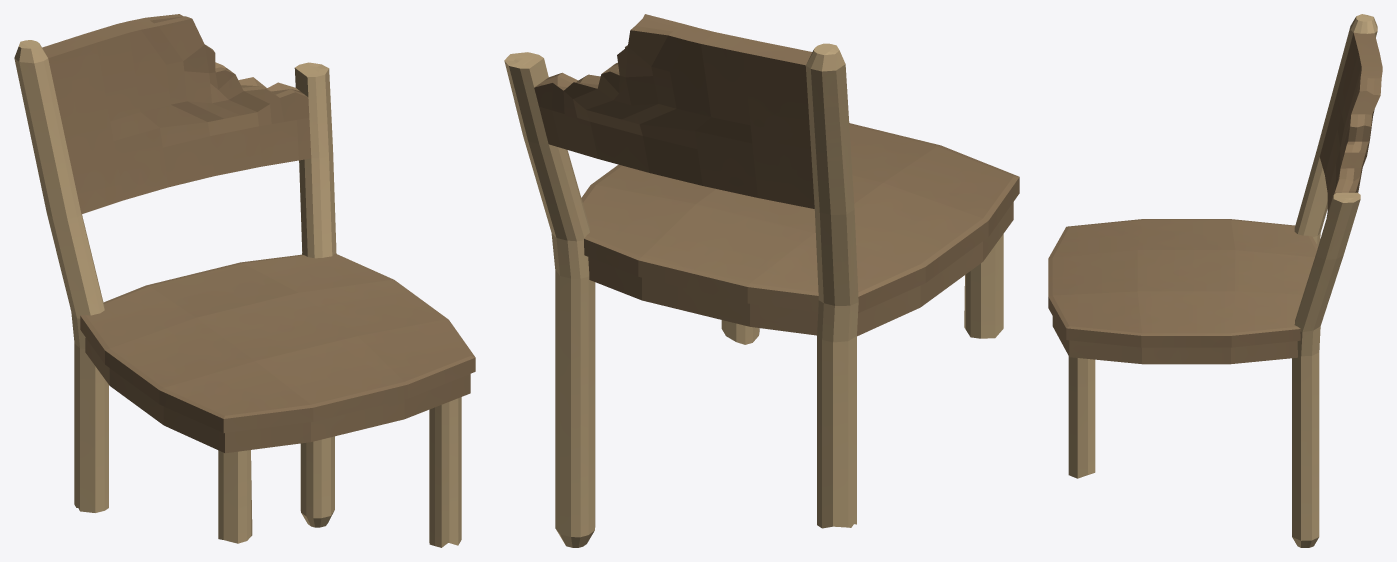
Rendered from chair_1_destroyed_2.glb.
3 views of the same model, side by side, from view 1: azimuth 30°, elevation 25°; view 2: azimuth 150°, elevation 25°; view 3: azimuth 270°, elevation 25° (orthographic). The views are drawn at different scales.
Parts seen in each view (by area): view 1: chair_1_destroyed_2; view 2: chair_1_destroyed_2; view 3: chair_1_destroyed_2.
Boxes of the visible parts, box(x1,y1,x2,y2) form: chair_1_destroyed_2: box(14, 14, 475, 547); chair_1_destroyed_2: box(504, 14, 1019, 547); chair_1_destroyed_2: box(1048, 14, 1382, 547).
Size of the model in its own units: 0.4601 by 0.7549 by 0.5374.
1 material, 1 textured.
